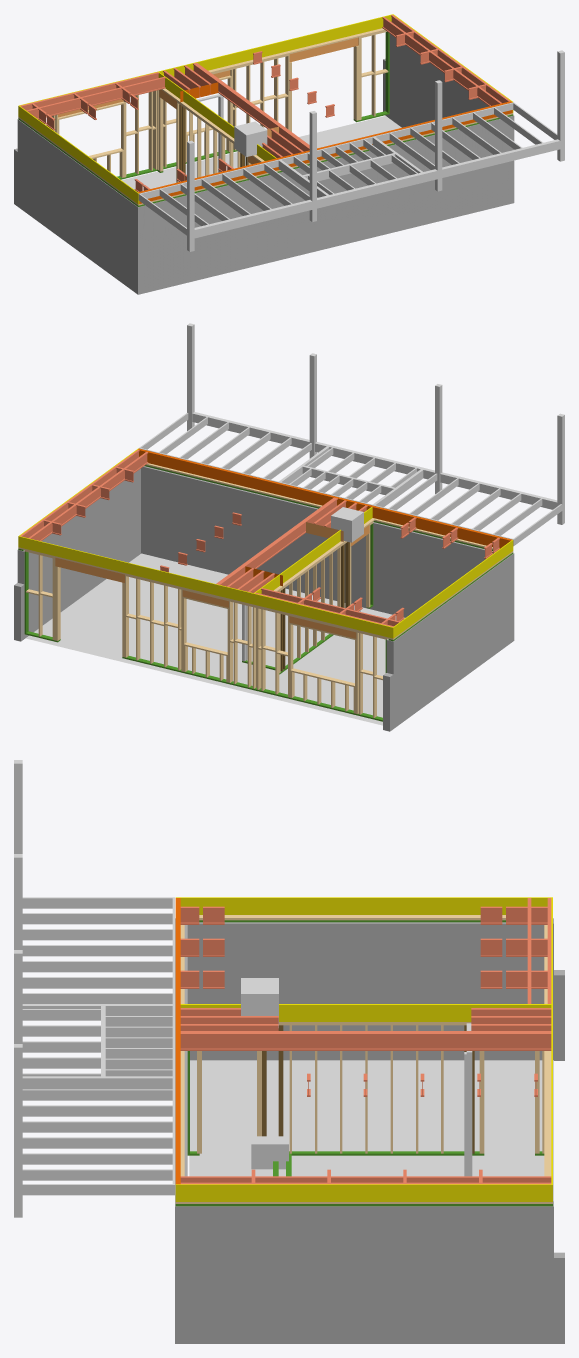
The model's file is Construction-Plan.glb.
3 renders of one model, top to bottom at view 1: azimuth 30°, elevation 25°; view 2: azimuth 150°, elevation 25°; view 3: azimuth 270°, elevation 25°, orthographic. The views are drawn at different scales.
Visible parts, largest first — view 1: 8" Concrete Walls, 2x8.023, Cube.007, 4" Concrete Slab, 1.125" OSB Rimboard.003, 2x8.001, 1.125" OSB Rimboard.002, BCI 6000 11 7/8" - 20'.008, BCI 6000 11 7/8" - 20'.006, BCI 6000 11 7/8" - 20'.044, 2x10.006, 2x10.009 (+20 smaller); view 2: 8" Concrete Walls, 4" Concrete Slab, 2x8.023, Cube.007, 1.125" OSB Rimboard.003, 1.5"-18' LVL Rimboard.001, 1.125" OSB Rimboard.002, 1.125" OSB Rimboard.006, BCI 6000 11 7/8" - 20'.006, BCI 6000 11 7/8" - 20'.044, 1.5" LVL Rimboard.003, 1.125" OSB Rimboard.008 (+12 smaller); view 3: 8" Concrete Walls, 4" Concrete Slab, 2x8.023, BCI 6000 11 7/8" - 20'.010, 1.125" OSB Rimboard.007, 1.125" OSB Rimboard.002, 2x8.032, Cube.007, 1.125" OSB Rimboard.008, BCI 6000 11 7/8" - 20'.006, 2x10.003, Stairs - 1 (+9 smaller).
Boxes of the visible parts, x1=… form: 8" Concrete Walls: x1=14, y1=34, x2=514, y2=294; 2x8.023: x1=139, y1=103, x2=557, y2=235; Cube.007: x1=187, y1=50, x2=564, y2=251; 4" Concrete Slab: x1=122, y1=116, x2=401, y2=190; 1.125" OSB Rimboard.003: x1=143, y1=14, x2=392, y2=76; 2x8.001: x1=138, y1=102, x2=513, y2=200; 1.125" OSB Rimboard.002: x1=18, y1=105, x2=139, y2=204; BCI 6000 11 7/8" - 20'.008: x1=26, y1=77, x2=165, y2=118; BCI 6000 11 7/8" - 20'.006: x1=382, y1=17, x2=501, y2=106; BCI 6000 11 7/8" - 20'.044: x1=193, y1=63, x2=309, y2=151; 2x10.006: x1=317, y1=170, x2=437, y2=208; 2x10.009: x1=194, y1=201, x2=312, y2=238; 8" Concrete Walls: x1=14, y1=466, x2=514, y2=731; 4" Concrete Slab: x1=25, y1=553, x2=404, y2=725; 2x8.023: x1=140, y1=413, x2=562, y2=545; Cube.007: x1=187, y1=323, x2=564, y2=524; 1.125" OSB Rimboard.003: x1=19, y1=536, x2=268, y2=608; 1.5"-18' LVL Rimboard.001: x1=230, y1=472, x2=417, y2=528; 1.125" OSB Rimboard.002: x1=392, y1=539, x2=513, y2=638; 1.125" OSB Rimboard.006: x1=269, y1=597, x2=392, y2=638; BCI 6000 11 7/8" - 20'.006: x1=28, y1=452, x2=148, y2=541; BCI 6000 11 7/8" - 20'.044: x1=218, y1=498, x2=337, y2=586; 1.5" LVL Rimboard.003: x1=138, y1=449, x2=230, y2=482; 1.125" OSB Rimboard.008: x1=254, y1=507, x2=372, y2=593; 8" Concrete Walls: x1=175, y1=918, x2=564, y2=1343; 4" Concrete Slab: x1=189, y1=1060, x2=553, y2=1201; 2x8.023: x1=22, y1=897, x2=172, y2=1195; BCI 6000 11 7/8" - 20'.010: x1=180, y1=1032, x2=551, y2=1050; 1.125" OSB Rimboard.007: x1=175, y1=1184, x2=552, y2=1201; 1.125" OSB Rimboard.002: x1=175, y1=897, x2=552, y2=914; 2x8.032: x1=105, y1=1016, x2=172, y2=1076; Cube.007: x1=14, y1=760, x2=22, y2=1217; 1.125" OSB Rimboard.008: x1=180, y1=1004, x2=551, y2=1021; BCI 6000 11 7/8" - 20'.006: x1=180, y1=1176, x2=551, y2=1182; 2x10.003: x1=22, y1=1077, x2=172, y2=1089; Stairs - 1: x1=241, y1=978, x2=278, y2=1027.
Size of the model in its own units: 10.97 by 5.39 by 8.86.
